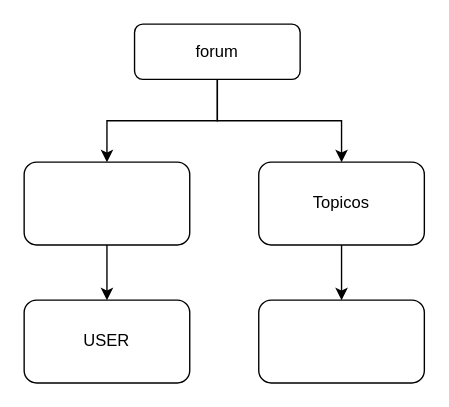
This 449x407 diagram has some shape labels left out. Here are the shapes that lost their labels. From the top down, the centre of each, then its label:
point (106, 203): auth
point (340, 341): CRUD
